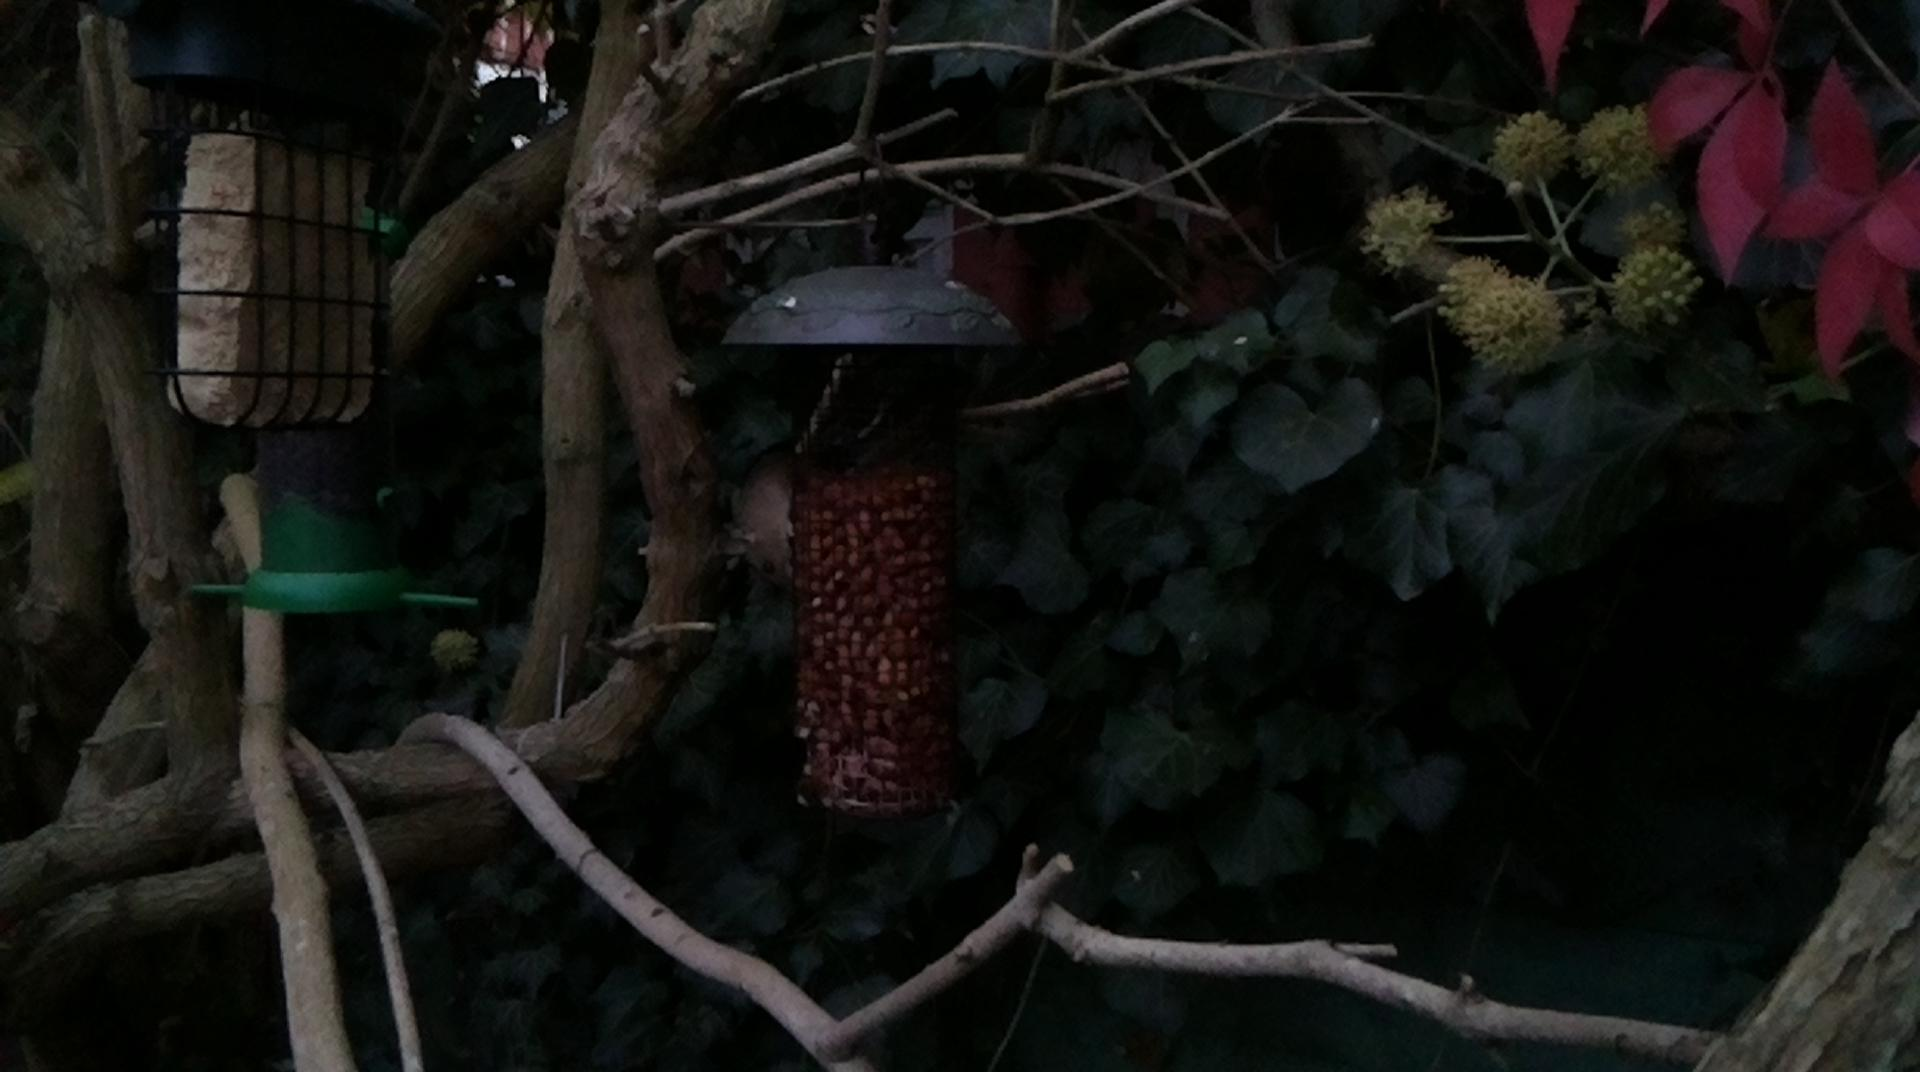mouse: (727, 451, 796, 588)
